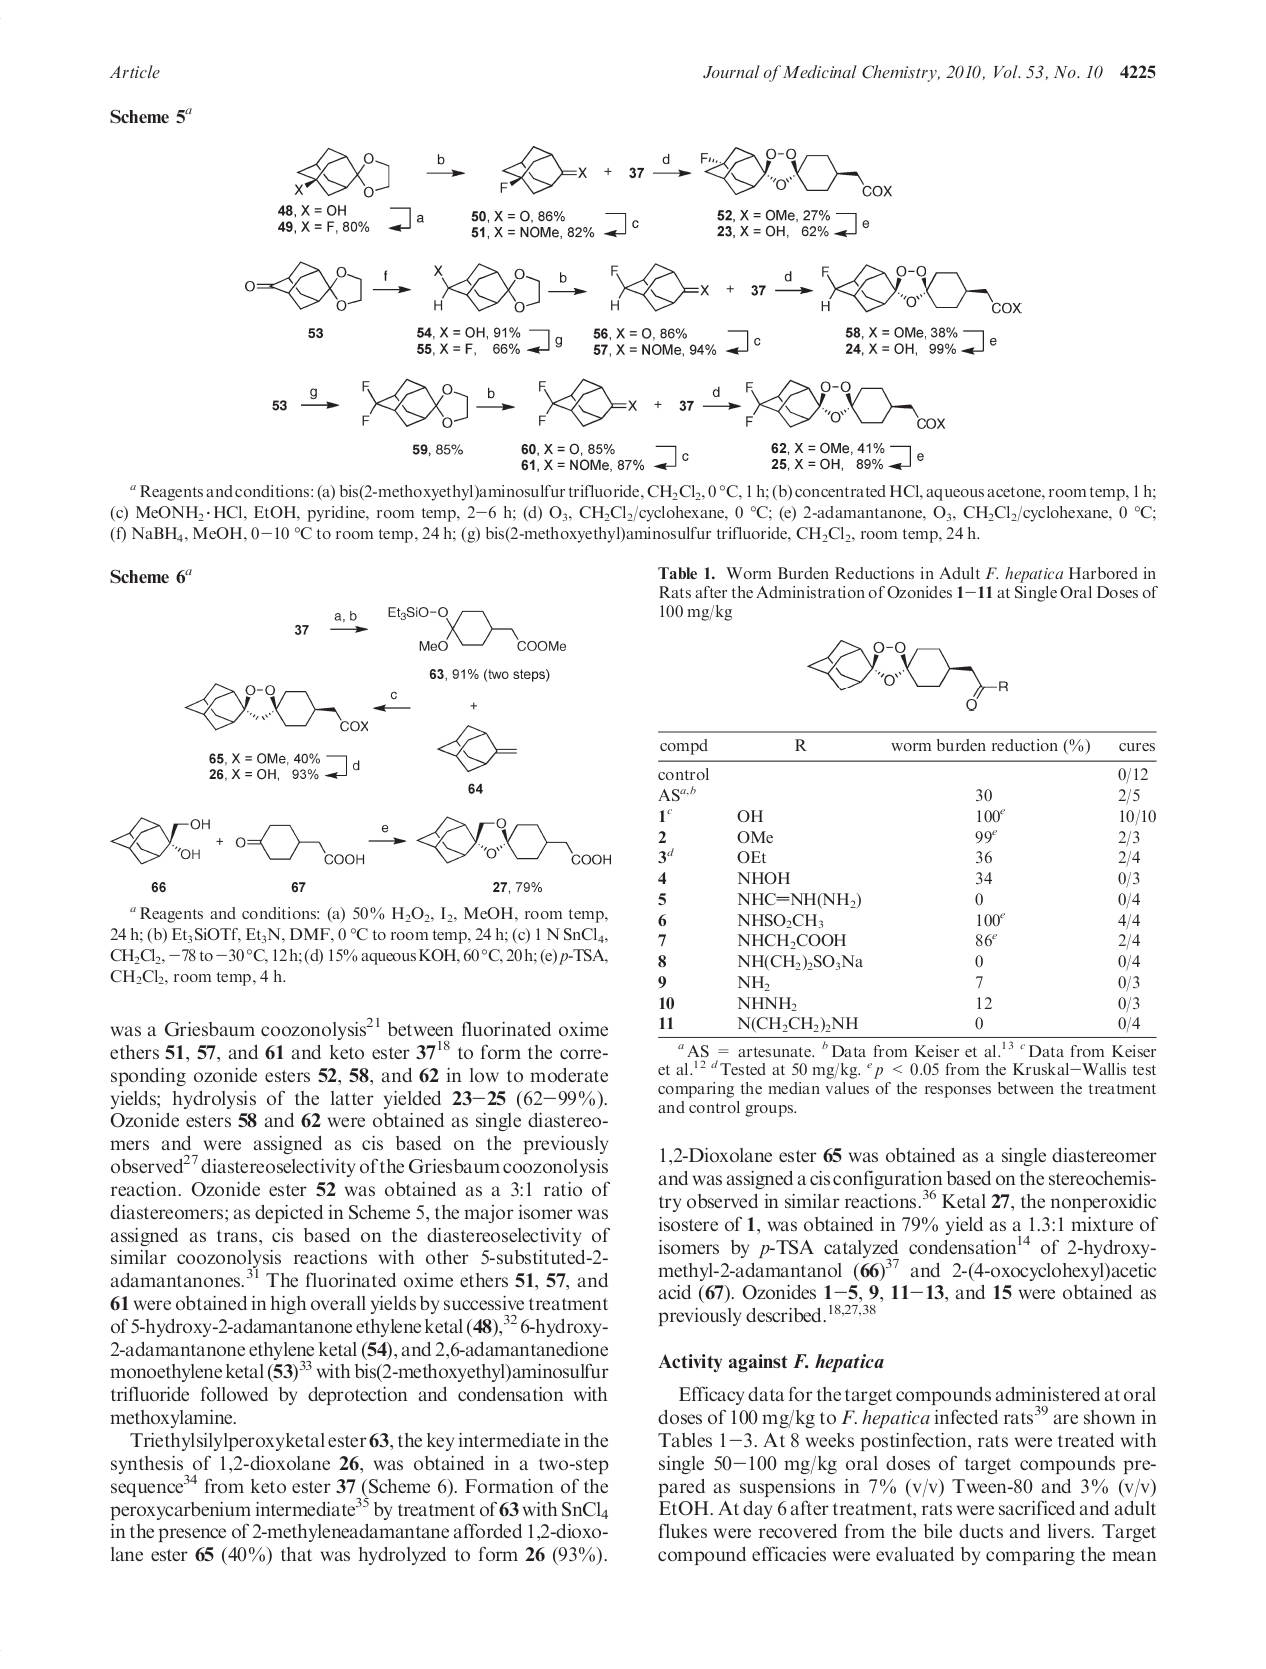exist_molecular: (798, 633, 1016, 709), (813, 255, 1036, 315), (738, 371, 961, 430), (178, 677, 372, 741), (694, 145, 900, 201), (412, 815, 614, 871), (374, 598, 568, 653), (598, 257, 726, 319), (227, 813, 368, 868), (524, 375, 646, 434), (242, 259, 368, 313), (354, 376, 477, 427), (428, 263, 548, 315), (104, 813, 211, 867), (493, 141, 590, 192), (293, 148, 394, 195), (436, 723, 523, 777)
